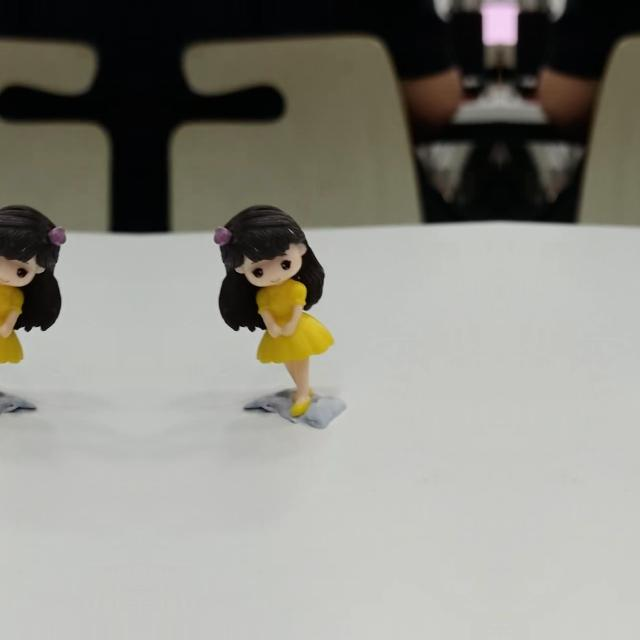woman head: (211, 204, 309, 290), (0, 203, 69, 290)
